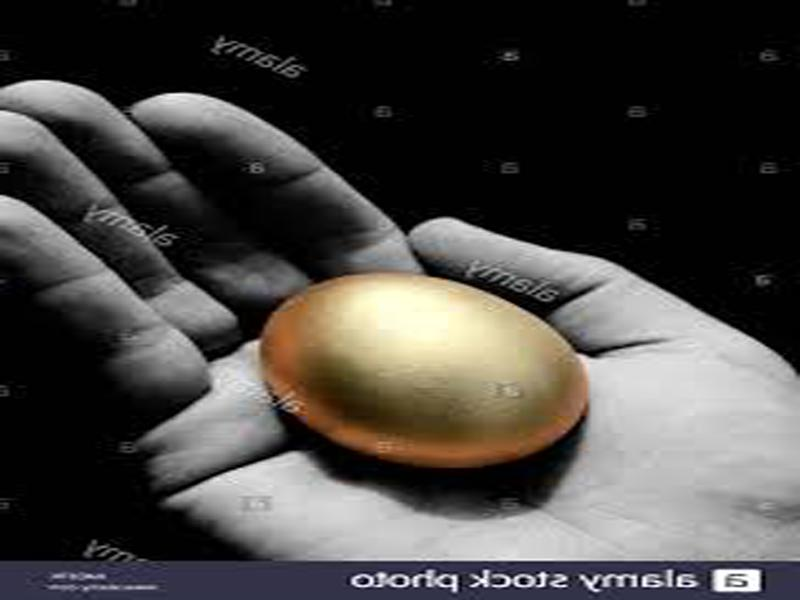Eggs: (258, 273, 584, 464)
